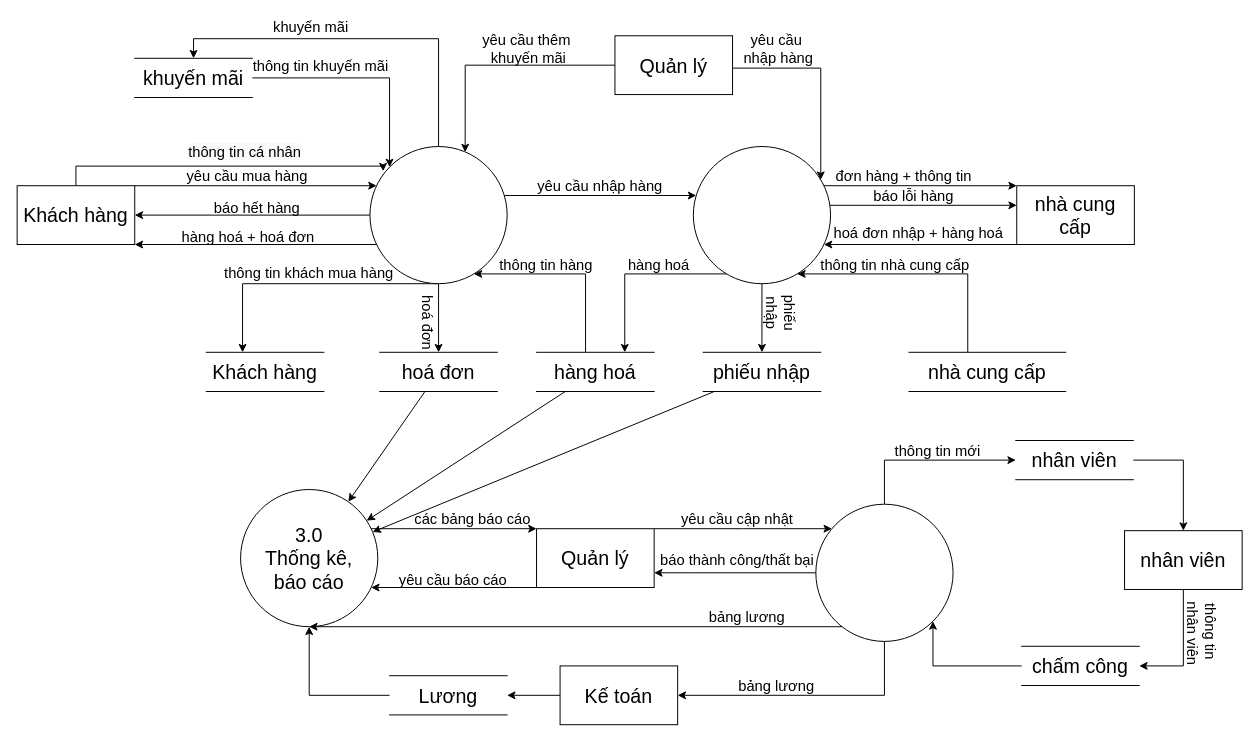
Some shapes in this 1259 by 742 pixel diagram are drawn without their labels. Each missing label, with the centre of its shape:
"1.0 Quản lý bán hàng" belongs at point 438,215.
"2.0 Quản lý nhập hàng" belongs at point 761,215.
"4.0 Quản lý nhân viên" belongs at point 884,572.
